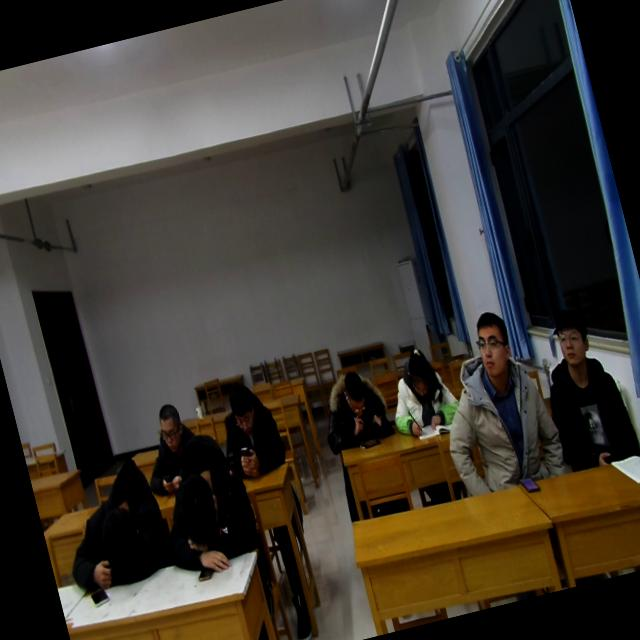bow: (148, 438, 268, 584), (50, 459, 172, 592)
down: (221, 372, 265, 438), (147, 397, 191, 455), (396, 346, 436, 403), (334, 366, 372, 422)
lookup: (546, 298, 600, 374), (468, 308, 518, 382)
sit: (418, 302, 564, 496), (529, 299, 640, 476), (208, 367, 292, 485), (130, 390, 222, 495), (312, 355, 392, 455), (378, 346, 458, 435)
